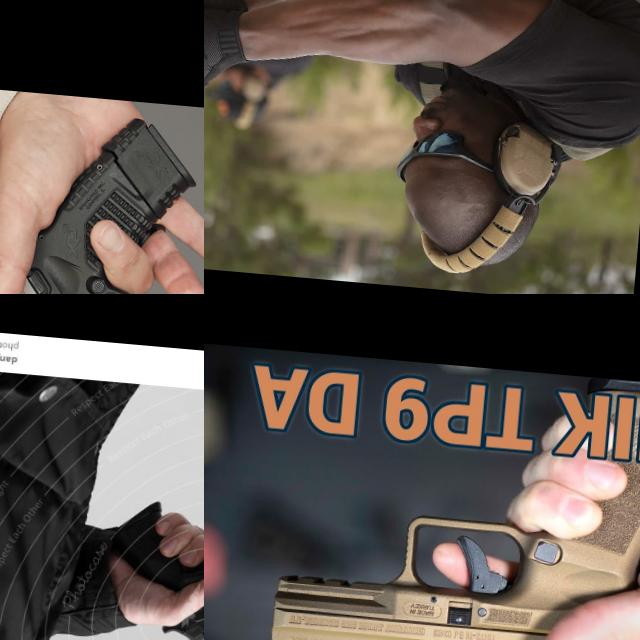handgun: (262, 350, 640, 640), (0, 98, 204, 294), (95, 489, 204, 640), (204, 36, 276, 129)
